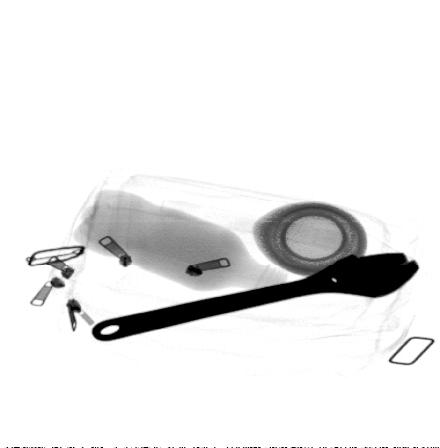Wrench: (89, 250, 422, 343)
